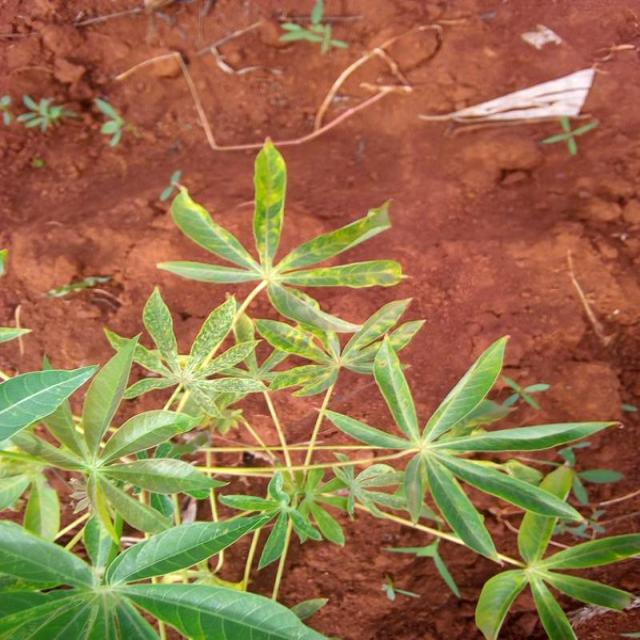cassava leaf: (1, 134, 637, 637), (251, 134, 287, 269)
